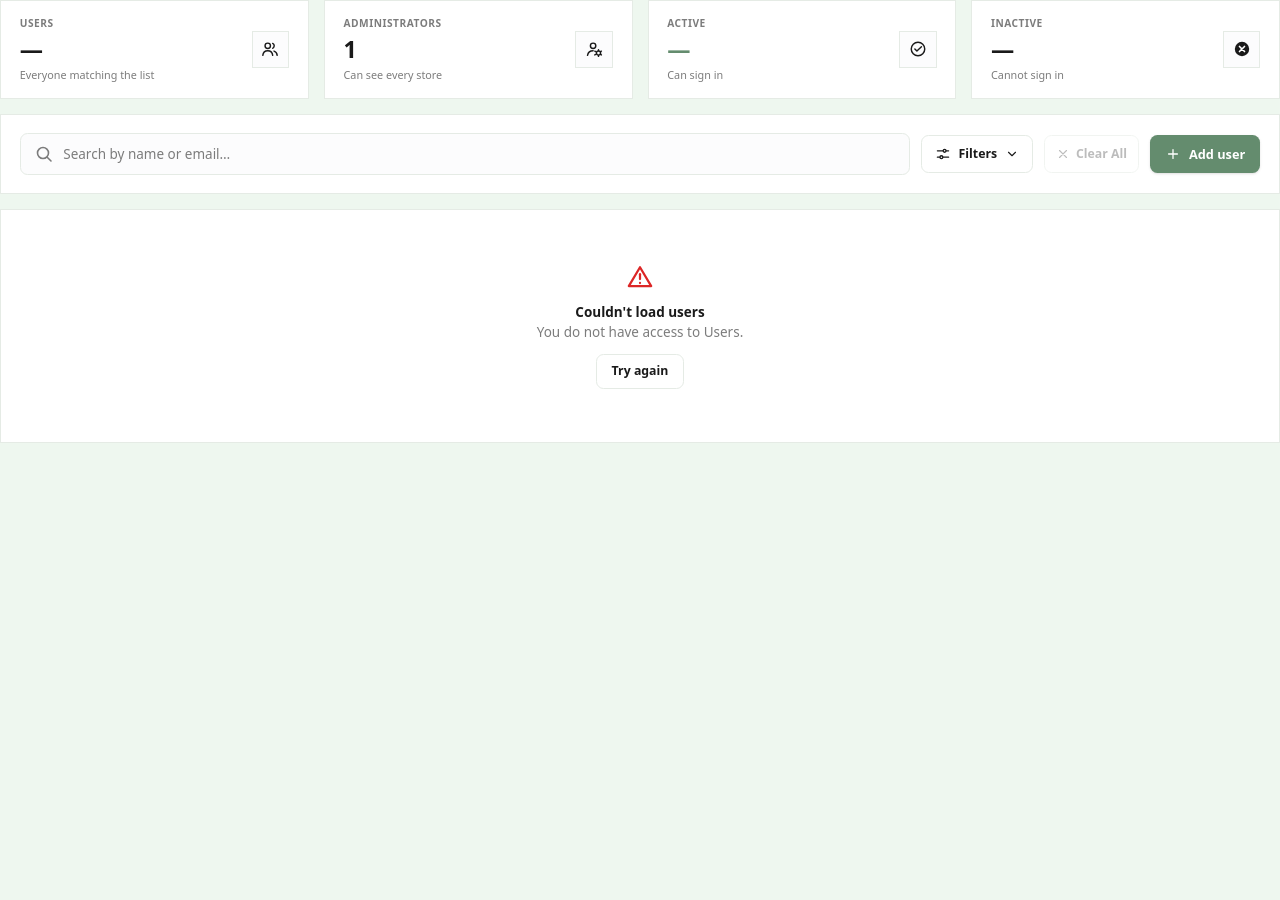
it: UsersPage › list › shows the backend message when loading fails, and retries
Expected: the text "Couldn't load users" is shown, top-left (575, 303), bottom-right (705, 321)
Expected: the text "You do not have access to Users." is shown, top-left (537, 322), bottom-right (743, 343)
Click the button "Try again".
click(640, 372)  # box top-left (596, 354), bottom-right (684, 389)
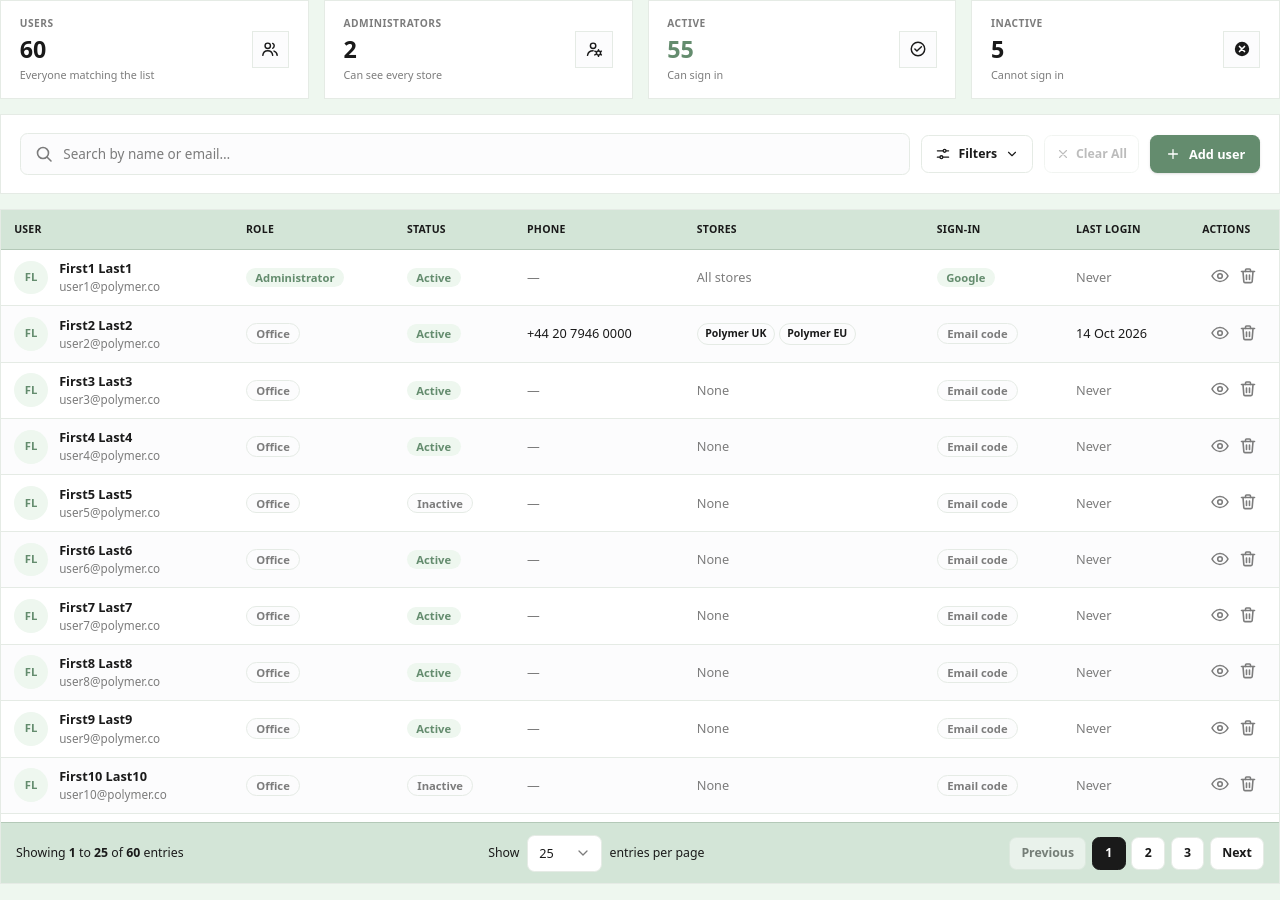
Now the text "First2 Last2" is shown, box top-left (59, 316), bottom-right (132, 334)
